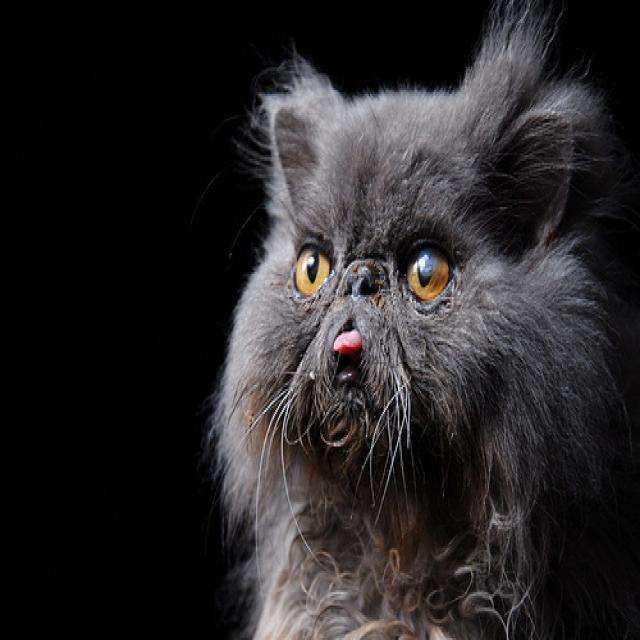Persian: (220, 44, 600, 538)
